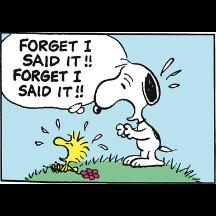snoopy: (92, 58, 178, 168)
